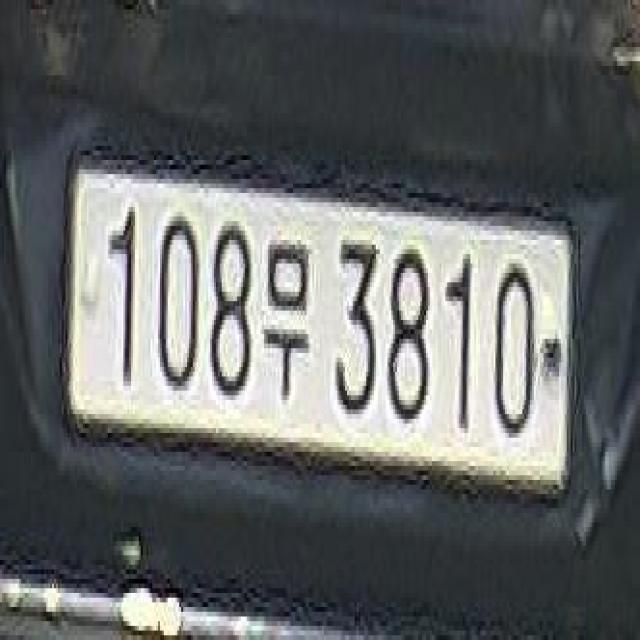illegal_plate: (68, 147, 567, 510)
